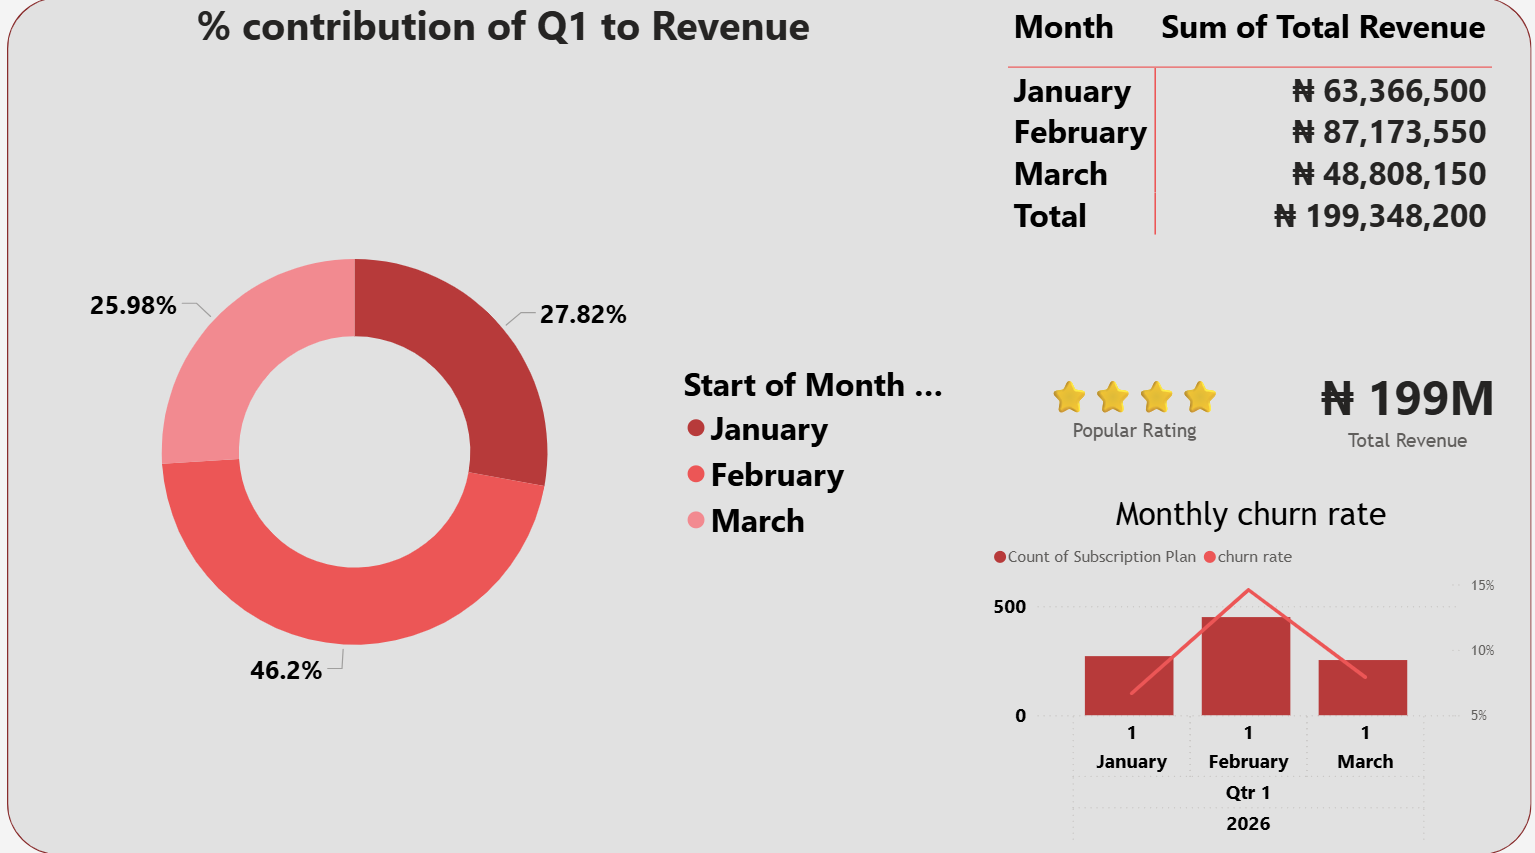

Layout of this report page (visuals, bound fields, positions):
{"tool":"powerbi","page":{"name":"Revenue dashboard","canvas":[1280,720],"ordinal":0},"visuals":[{"type":"shape","title":"background color","box":[0,0,1279.4,720.1],"z":0},{"type":"donutChart","title":"% contribution of Q1 to Revenue","fields":{"Y":["CountNonNull(mtn_customer_churn.Start of Month)"],"Category":["mtn_customer_churn.Start of Month.Variation.Date Hierarchy.Year","mtn_customer_churn.Start of Month.Variation.Date Hierarchy.Quarter","mtn_customer_churn.Start of Month.Variation.Date Hierarchy.Month","mtn_customer_churn.Start of Month.Variation.Date Hierarchy.Day"]},"box":[9.4,0,812.6,718.1],"z":1000},{"type":"pivotTable","fields":{"Rows":["mtn_customer_churn.Start of Month.Variation.Date Hierarchy.Year","mtn_customer_churn.Start of Month.Variation.Date Hierarchy.Quarter","mtn_customer_churn.Start of Month.Variation.Date Hierarchy.Month","mtn_customer_churn.Start of Month.Variation.Date Hierarchy.Day"],"Values":["Sum(mtn_customer_churn.Total Revenue)"]},"box":[835,0,445.9,239.7],"z":2000},{"type":"cardVisual","fields":{"Data":["Sum(mtn_customer_churn.Total Revenue)"]},"box":[1069.6,262.9,211.3,162.4],"z":3000},{"type":"cardVisual","fields":{"Data":["measure.star mode"]},"box":[835.3,262.7,221.1,162.5],"z":4000},{"type":"lineClusteredColumnComboChart","title":"Monthly churn rate","fields":{"Category":["mtn_customer_churn.Start of Month.Variation.Date Hierarchy.Year","mtn_customer_churn.Start of Month.Variation.Date Hierarchy.Quarter","mtn_customer_churn.Start of Month.Variation.Date Hierarchy.Month","mtn_customer_churn.Start of Month.Variation.Date Hierarchy.Day"],"Y2":["measure.churn rate"],"Y":["CountNonNull(mtn_customer_churn.Subscription Plan)"]},"box":[822.1,417.6,444.1,300.5],"z":5000}]}

Visuals, with their boxes in screenshot pixels (x1, y1, x2, y2), scaled from the page's 1280x720 canvas onto the 1535x853 screenshot:
"background color" shape: left=0, top=0, right=1534, bottom=852
"% contribution of Q1 to Revenue" donutChart: left=11, top=0, right=986, bottom=851
pivotTable - mtn_customer_churn.Start of Month.Variation.Date Hierarchy.Year x mtn_customer_churn.Start of Month.Variation.Date Hierarchy.Quarter: left=1001, top=0, right=1534, bottom=284
cardVisual - Sum(mtn_customer_churn.Total Revenue): left=1283, top=311, right=1534, bottom=504
cardVisual - measure.star mode: left=1002, top=311, right=1267, bottom=504
"Monthly churn rate" lineClusteredColumnComboChart: left=986, top=495, right=1518, bottom=851
